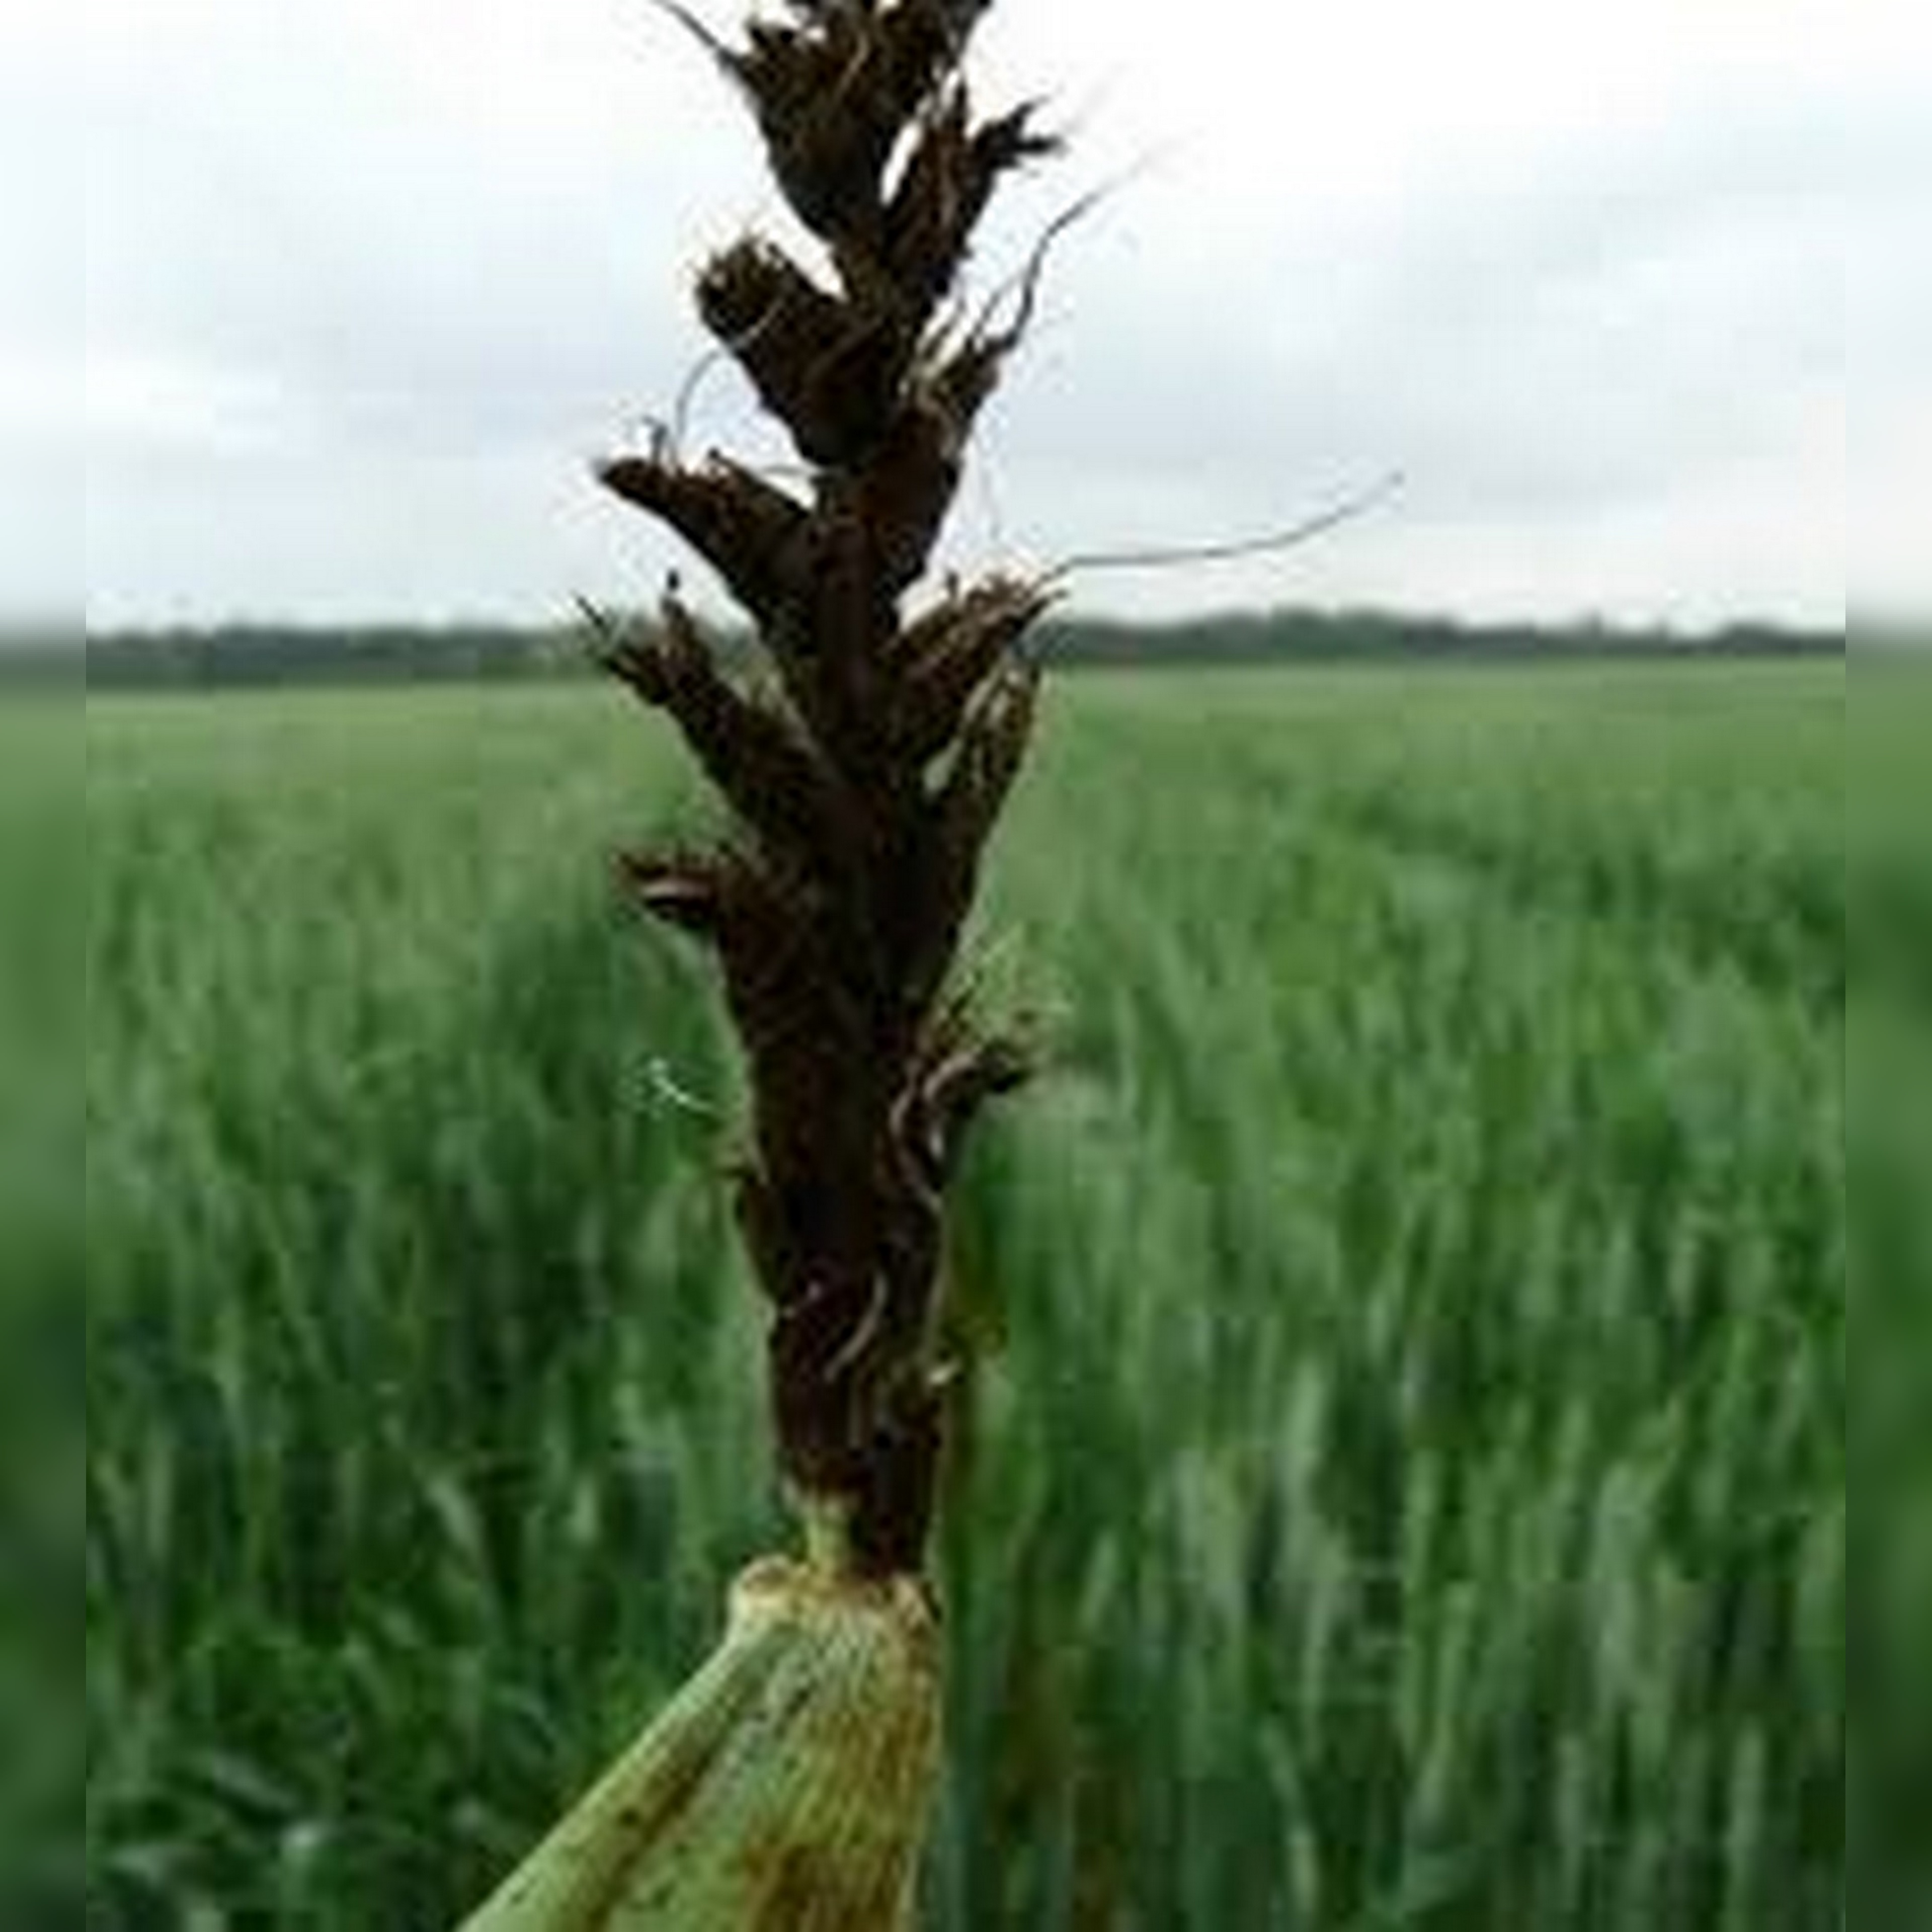Wheat Loose Smut: (594, 53, 1044, 1523)
